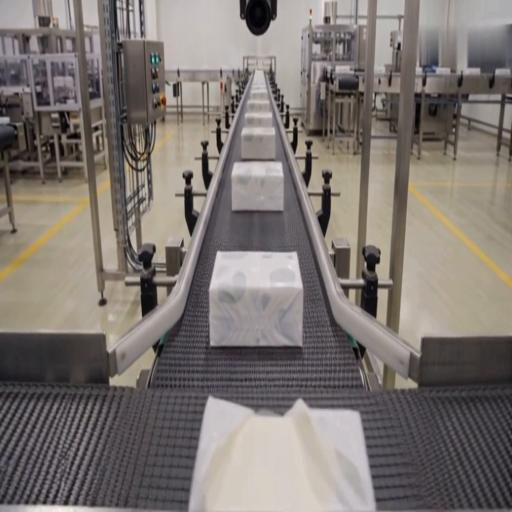defective: (190, 393, 373, 511), (209, 251, 302, 348)
good: (230, 162, 285, 213), (240, 125, 278, 161), (244, 108, 274, 128), (248, 71, 270, 89), (246, 97, 270, 112), (248, 86, 270, 100)
